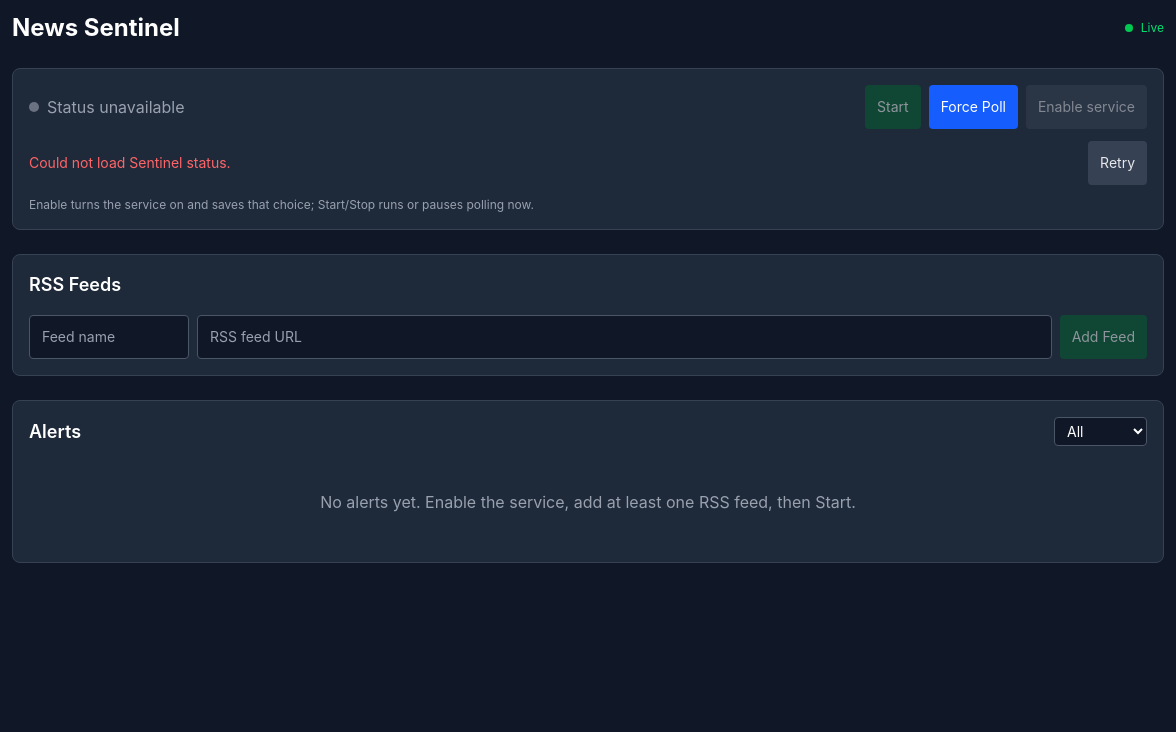
Test case: Sentinel dashboard failed reads › reports a failed status read instead of a disabled service and blocks Add Feed from replacing the saved list
The image size is (1176, 732).
Expected: the text "Could not load Sentinel status." is shown, left=29, top=153, right=231, bottom=173
Expected: the text "Status unavailable" is shown, left=47, top=95, right=184, bottom=119
In the field labelled "Feed name": (109, 337) left=29, top=315, right=189, bottom=359, type "Second feed"
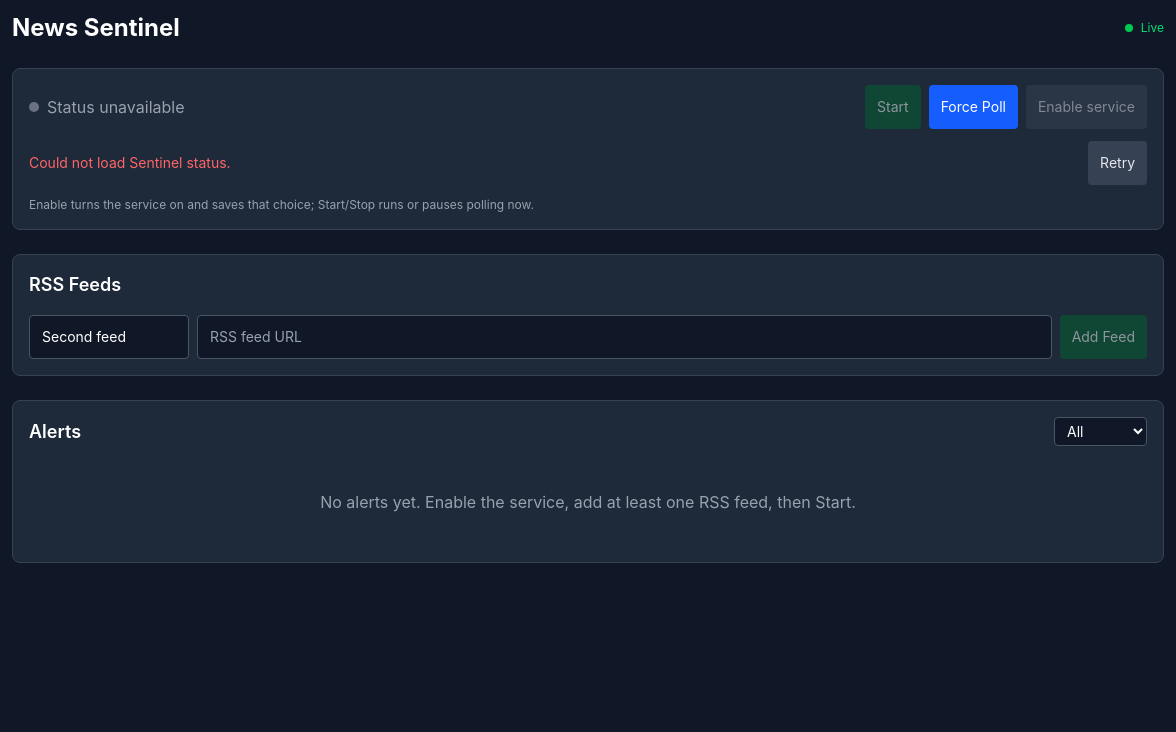
In the field labelled "RSS feed URL": (624, 337) left=197, top=315, right=1052, bottom=359, type "https://second.example/rss"
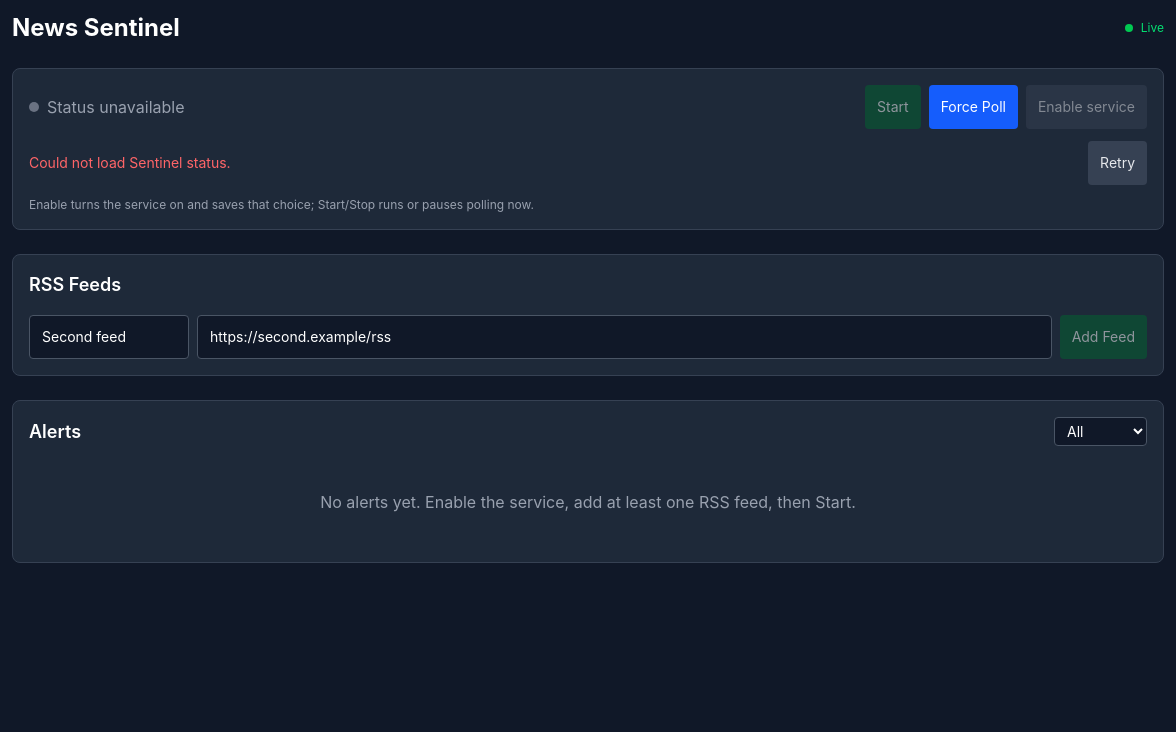
Expected: the button "Add Feed" is disabled, left=1060, top=315, right=1147, bottom=359
Click the button "Retry": click(1118, 163) left=1088, top=141, right=1147, bottom=185
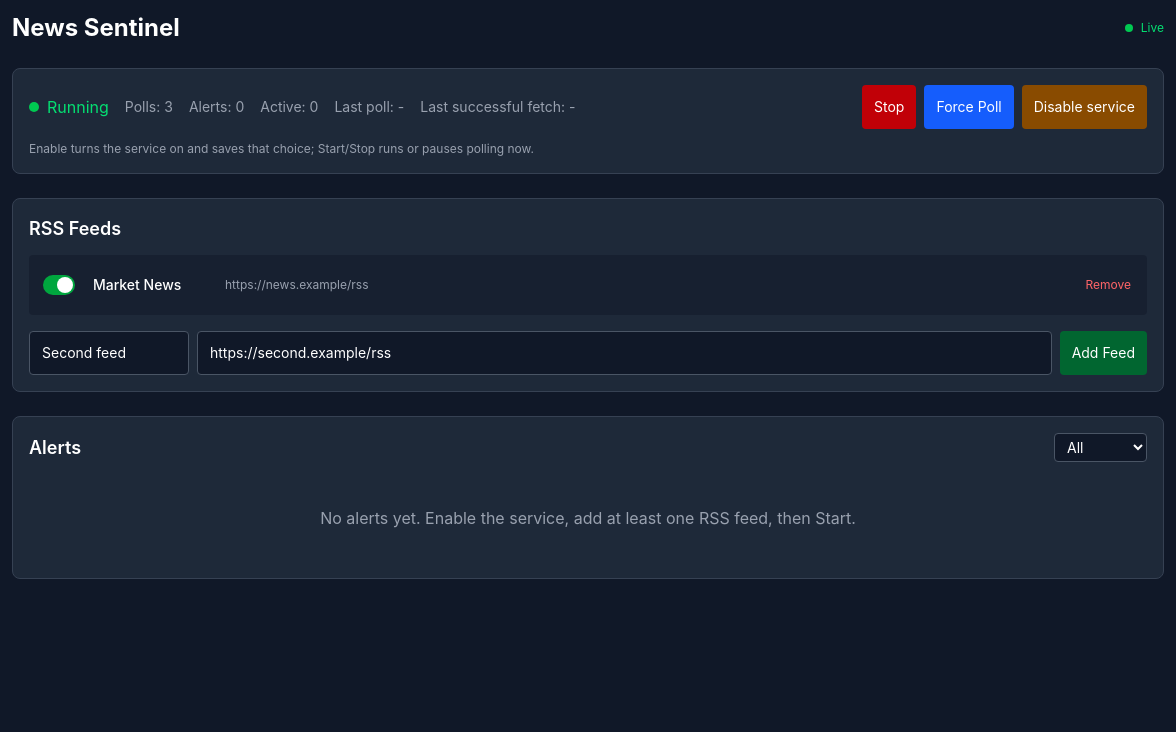
Now the text "Market News" is shown, box left=93, top=276, right=181, bottom=293
Now the text "Could not load Sentinel status." is gone
Now the button "Add Feed" is enabled, box left=1060, top=331, right=1147, bottom=375
